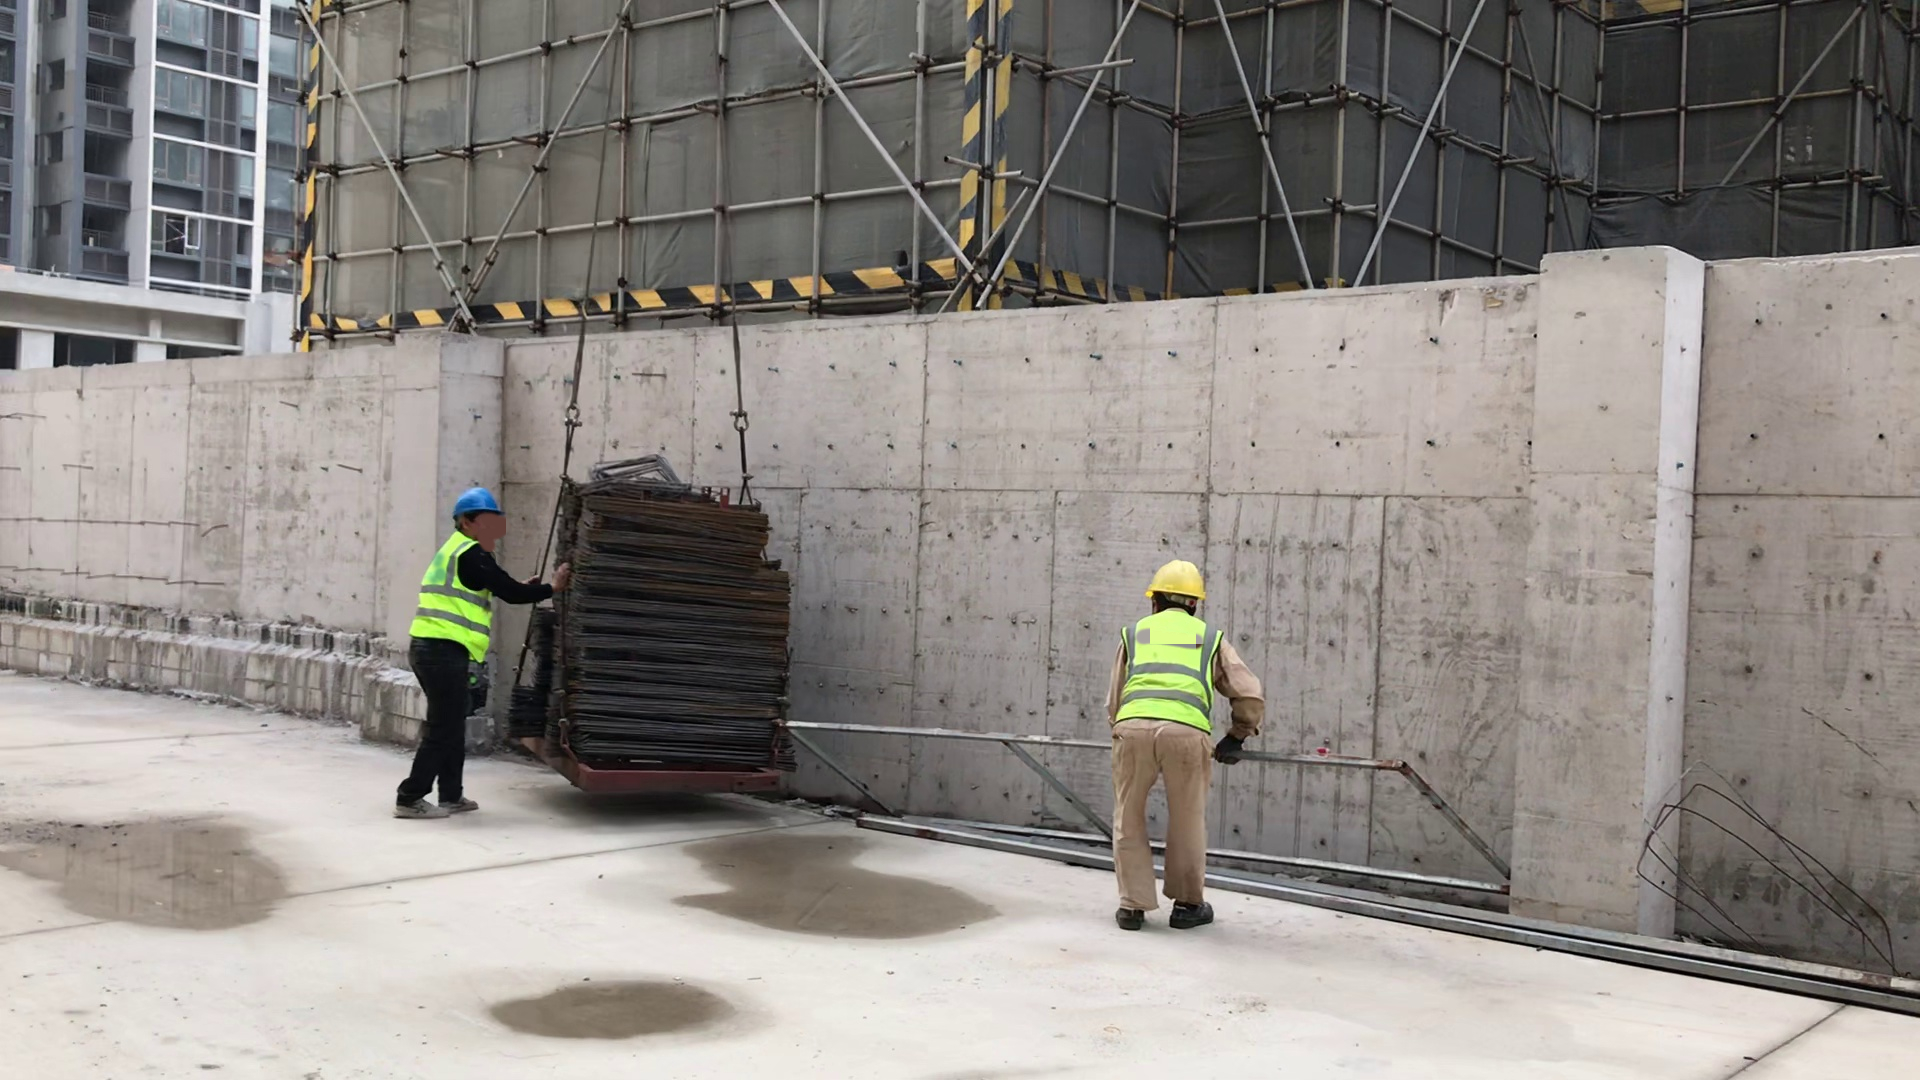helmet: (439, 475, 520, 523), (1140, 552, 1212, 603)
person: (1103, 549, 1246, 913), (387, 468, 520, 828)
vest: (1120, 615, 1220, 731), (408, 534, 501, 647)
